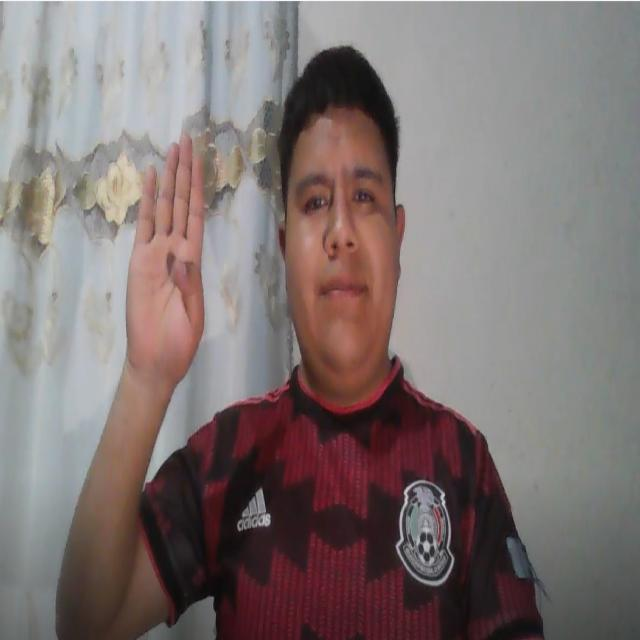B: (121, 128, 217, 386)
